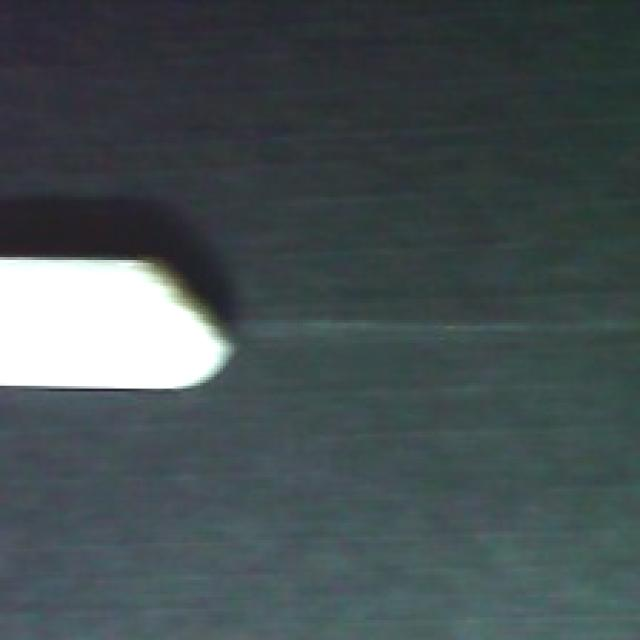defected: (0, 237, 240, 400)
